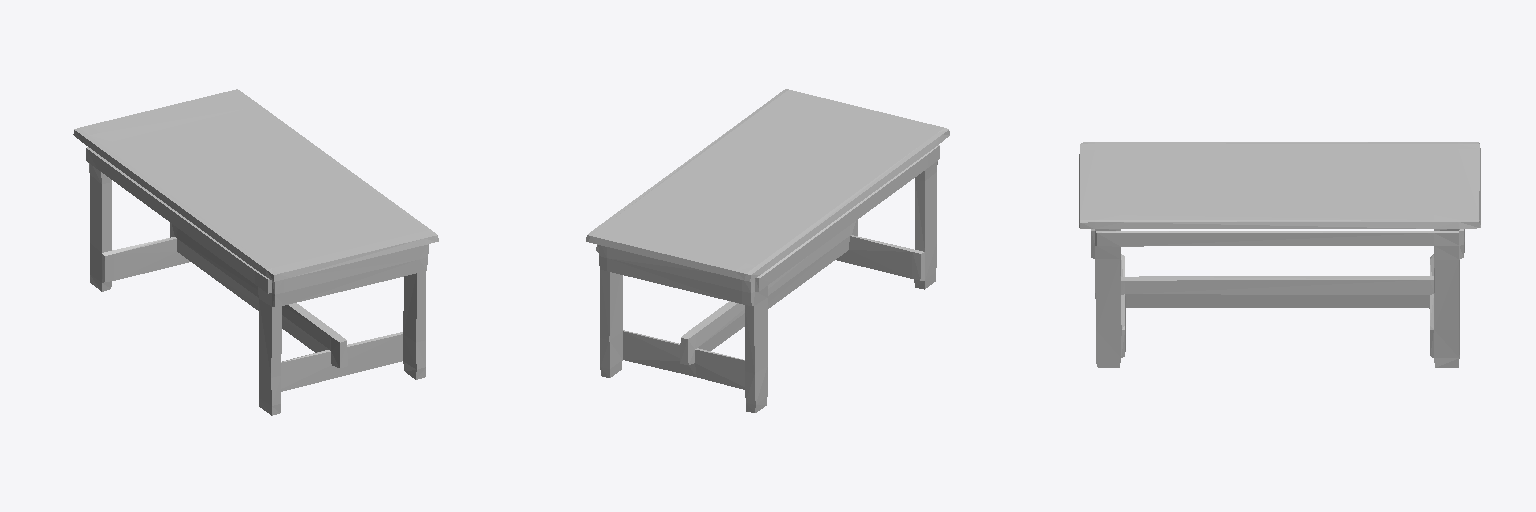
The model's file is table.obj.
3 renders of one model, left to right at view 1: azimuth 30°, elevation 25°; view 2: azimuth 150°, elevation 25°; view 3: azimuth 270°, elevation 25°, orthographic.
Visible parts, largest first — view 1: defaultMaterial; view 2: defaultMaterial; view 3: defaultMaterial.
Boxes of the visible parts, <box> form: defaultMaterial: <box>73,89,438,415</box>; defaultMaterial: <box>586,89,949,412</box>; defaultMaterial: <box>1079,142,1480,367</box>.
Size of the model in its own units: 1.15 by 0.9801 by 2.41.